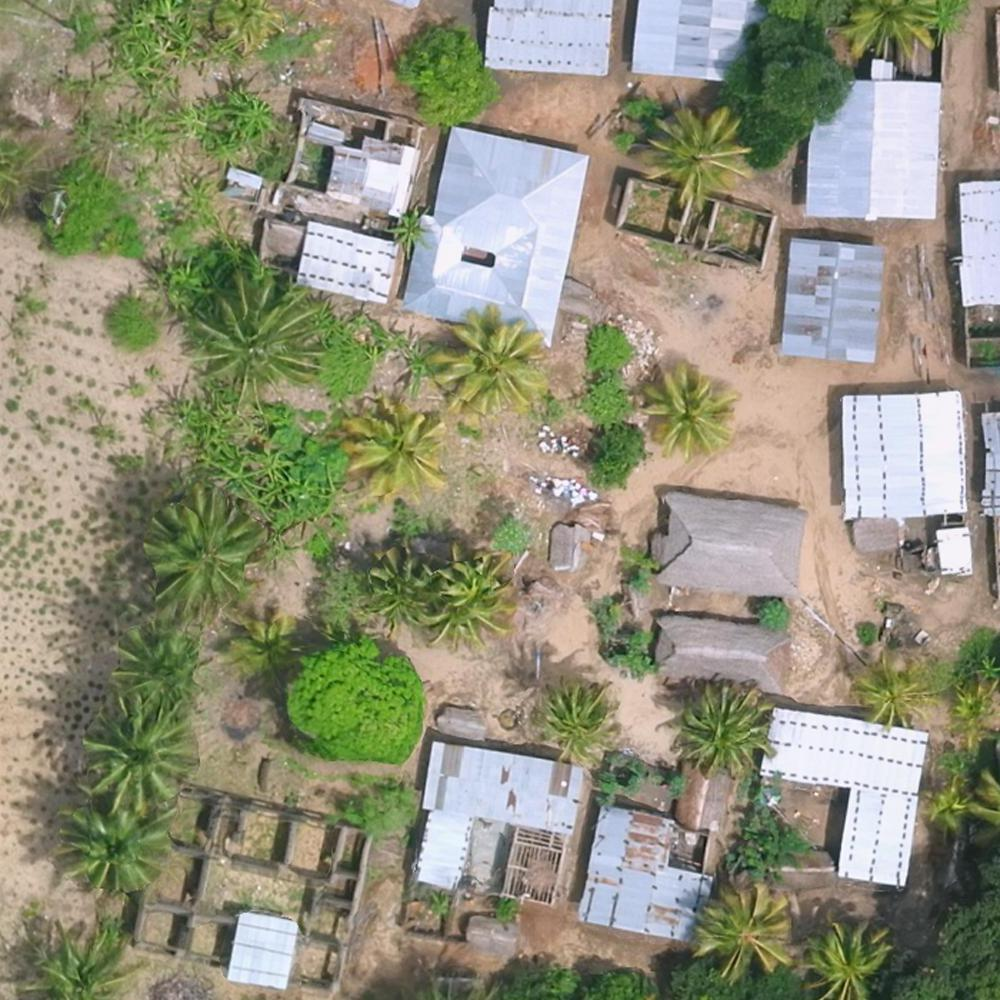Palm: (187, 277, 317, 395), (77, 700, 198, 807), (146, 494, 251, 608), (433, 311, 542, 413), (58, 800, 169, 894), (343, 399, 444, 497), (646, 109, 748, 200), (112, 618, 208, 713), (679, 678, 777, 769), (697, 880, 794, 969), (638, 366, 736, 452), (801, 922, 891, 999), (540, 682, 619, 755), (851, 656, 927, 730)
